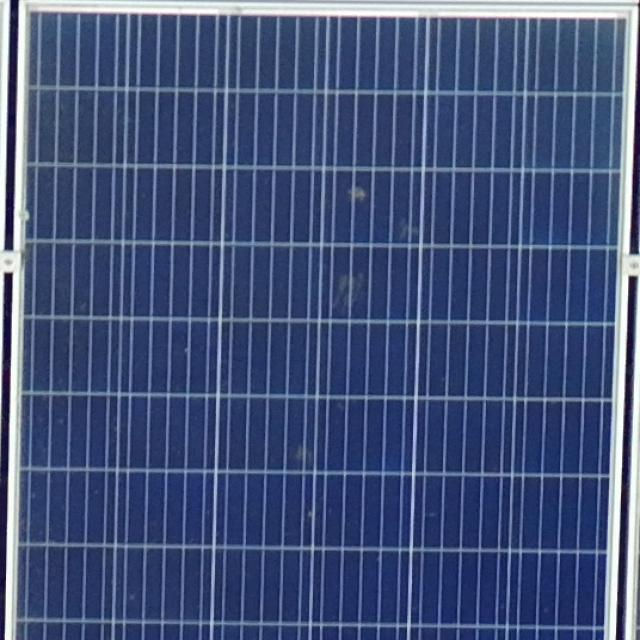bird-droppings: (329, 268, 376, 311), (338, 175, 372, 211)
